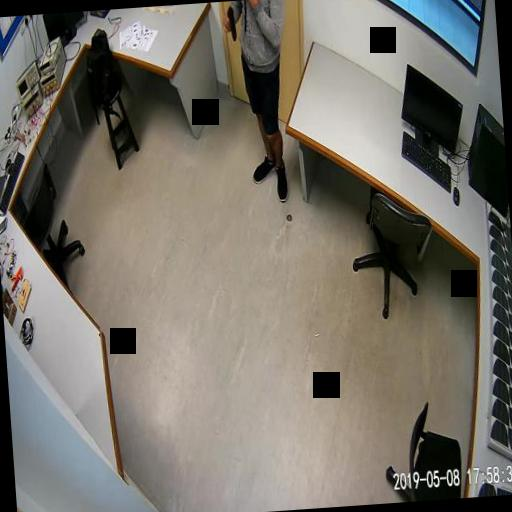Handgun: (220, 4, 236, 41)
